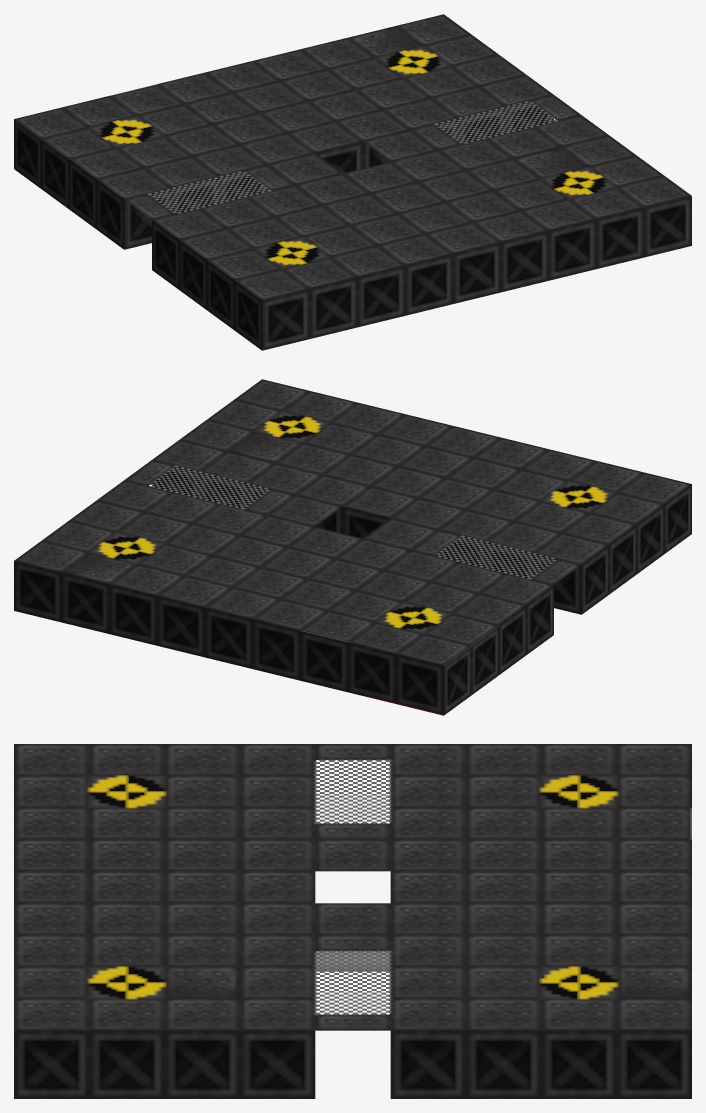
Rendered from launch_table_base.obj.
3 renders of one model, top to bottom at view 1: azimuth 30°, elevation 25°; view 2: azimuth 150°, elevation 25°; view 3: azimuth 270°, elevation 25°, orthographic. The views are drawn at different scales.
Parts seen in each view (by area): view 1: Cube_Cube.001; view 2: Cube_Cube.001; view 3: Cube_Cube.001.
Boxes of the visible parts, x1=… form: Cube_Cube.001: x1=14, y1=14, x2=691, y2=350; Cube_Cube.001: x1=14, y1=379, x2=691, y2=715; Cube_Cube.001: x1=14, y1=744, x2=691, y2=1098.
Bounding box in the file's own units: 9 × 1 × 9.
